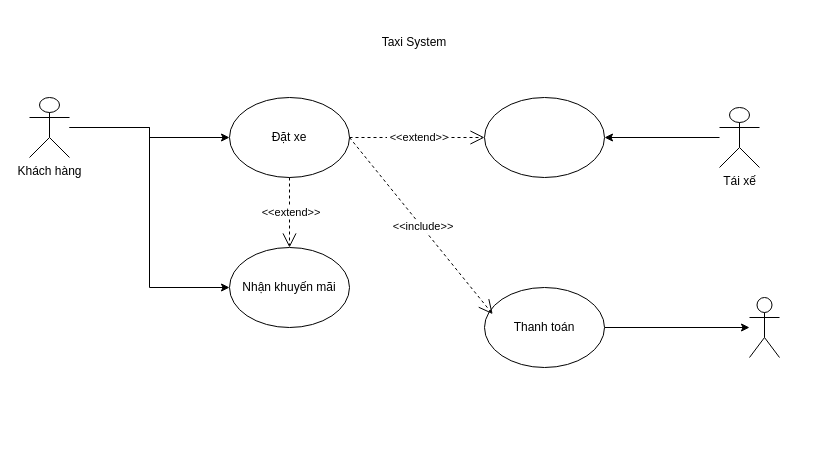
The diagram is 836 pixels wide and 464 high, and some of its shapes have lost their labels. Each missing label, with the centre of its shape:
"Hệ thống thanh toán" goes at pixel 764 327.
"Xem vị trí tài xế" goes at pixel 544 137.
